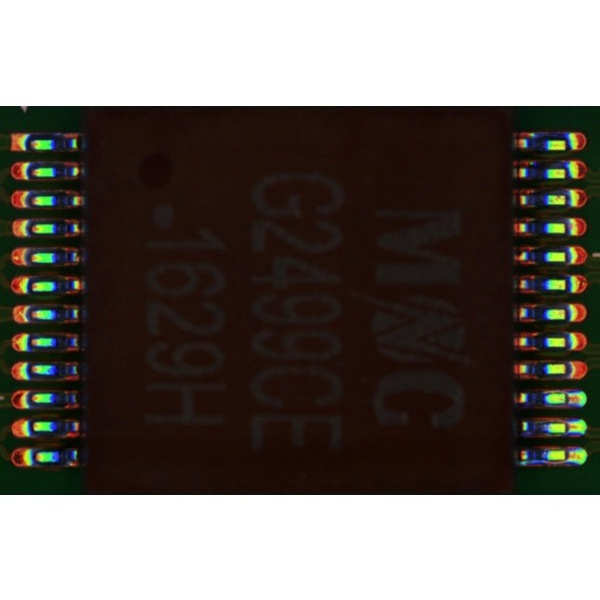Bad_podu: (562, 422, 576, 432), (561, 449, 573, 459), (563, 392, 573, 403)
Bad_qiaojiao: (521, 458, 568, 464)
